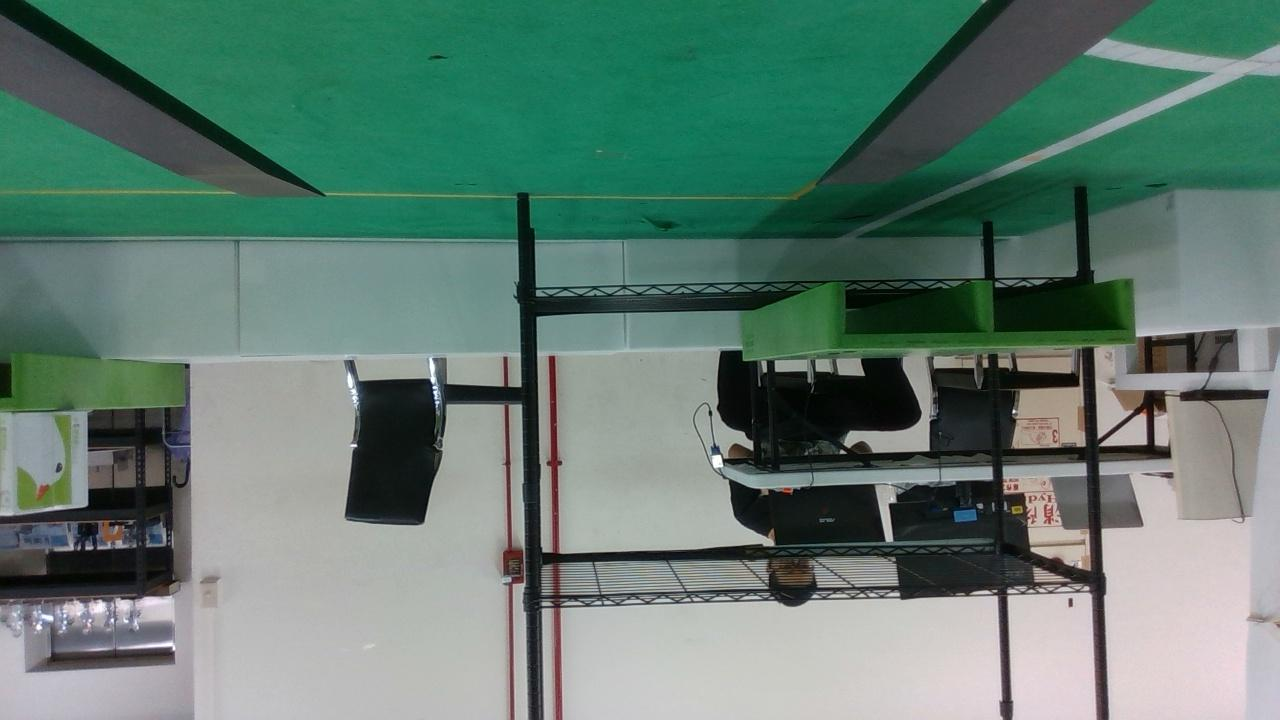Pallet: (825, 277, 1138, 349)
